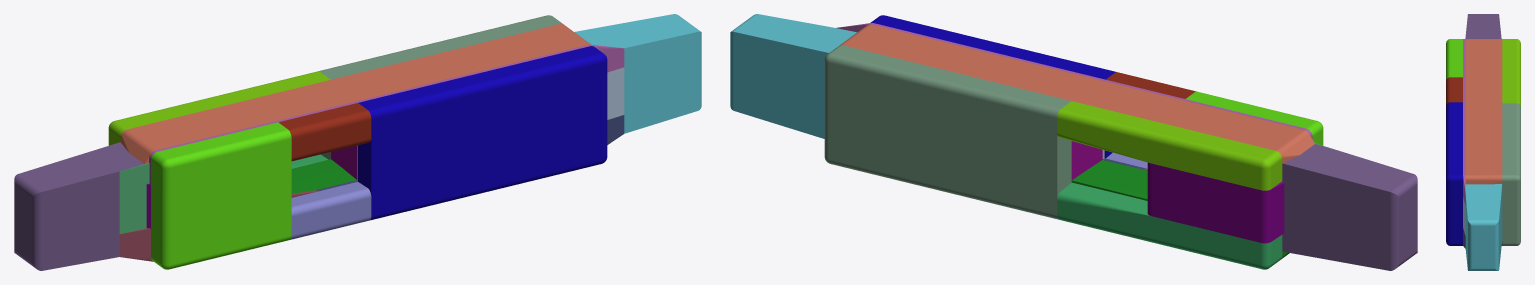
File: 2_canonical.obj
3 views of the same model, side by side, from view 1: azimuth 30°, elevation 25°; view 2: azimuth 150°, elevation 25°; view 3: azimuth 270°, elevation 25° (orthographic). The views are drawn at different scales.
Parts seen in each view (by area): view 1: geometry_5, geometry_17, geometry_9, geometry_1, geometry_2, geometry_15, geometry_12, geometry_0, geometry_4, geometry_3, geometry_7, geometry_8 (+4 smaller); view 2: geometry_0, geometry_1, geometry_9, geometry_2, geometry_4, geometry_11, geometry_10, geometry_5, geometry_8, geometry_17, geometry_7, geometry_15 (+1 smaller); view 3: geometry_9, geometry_2, geometry_0, geometry_5, geometry_4, geometry_1, geometry_17, geometry_7, geometry_15, geometry_6.
Boxes of the visible parts, x1,y1,x2,y2 form: geometry_5: (358, 46, 607, 220); geometry_17: (151, 122, 291, 269); geometry_9: (120, 24, 590, 164); geometry_1: (14, 142, 143, 270); geometry_2: (574, 14, 701, 133); geometry_15: (279, 103, 371, 161); geometry_12: (290, 182, 371, 239); geometry_0: (319, 15, 563, 159); geometry_4: (108, 71, 330, 145); geometry_3: (119, 163, 149, 233); geometry_7: (149, 44, 624, 184); geometry_8: (291, 159, 356, 193); geometry_0: (824, 45, 1071, 219); geometry_1: (1282, 144, 1417, 270); geometry_9: (840, 24, 1314, 163); geometry_2: (730, 14, 856, 138); geometry_4: (1057, 101, 1282, 190); geometry_11: (1147, 162, 1284, 243); geometry_10: (1057, 182, 1282, 269); geometry_5: (870, 15, 1115, 158); geometry_8: (1071, 160, 1289, 259); geometry_17: (1186, 91, 1323, 145); geometry_7: (836, 23, 1312, 138); geometry_15: (1106, 72, 1196, 98); geometry_9: (1465, 39, 1502, 184); geometry_2: (1465, 184, 1502, 270); geometry_0: (1502, 103, 1520, 245); geometry_5: (1446, 102, 1462, 245); geometry_4: (1502, 39, 1520, 106); geometry_1: (1465, 14, 1501, 38); geometry_17: (1446, 39, 1462, 80); geometry_7: (1463, 39, 1465, 205); geometry_15: (1446, 77, 1462, 105); geometry_6: (1463, 197, 1465, 235).
Size of the model in its own units: 0.0762 by 0.012 by 0.0115.
